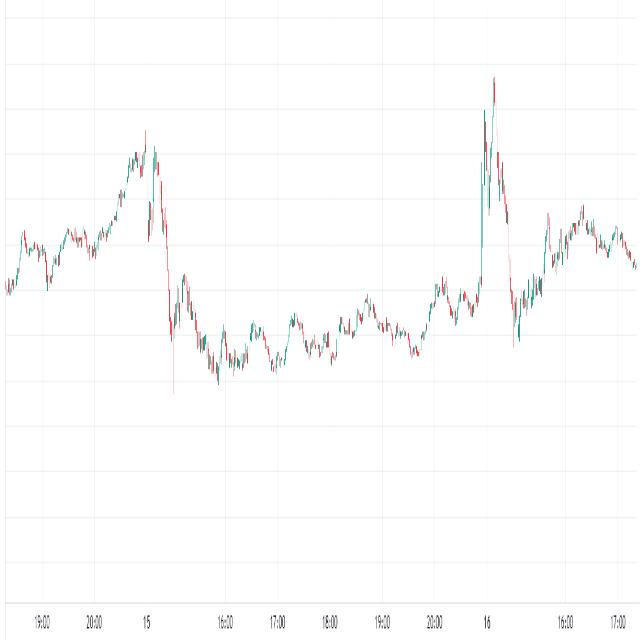Ascending-Triangle: (6, 220, 134, 328)
